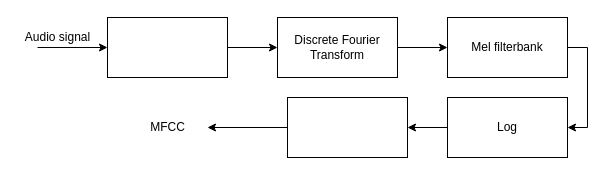
Some shapes in this 613 by 175 pixel diagram are drawn without their labels. Here are the shapes that lost their labels. From the top down, the centre of each, then its label:
At point 167,47: "Window signal to 20-40ms frames".
At point 347,127: "Discrete Cosine Transform".
